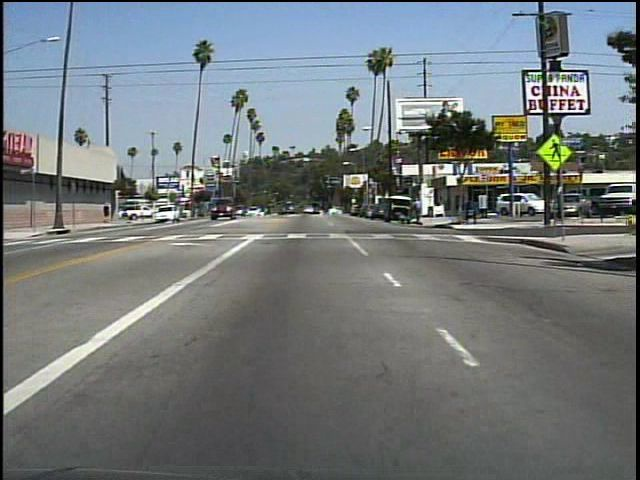person: (410, 196, 425, 227), (395, 210, 412, 229), (102, 199, 112, 225)
